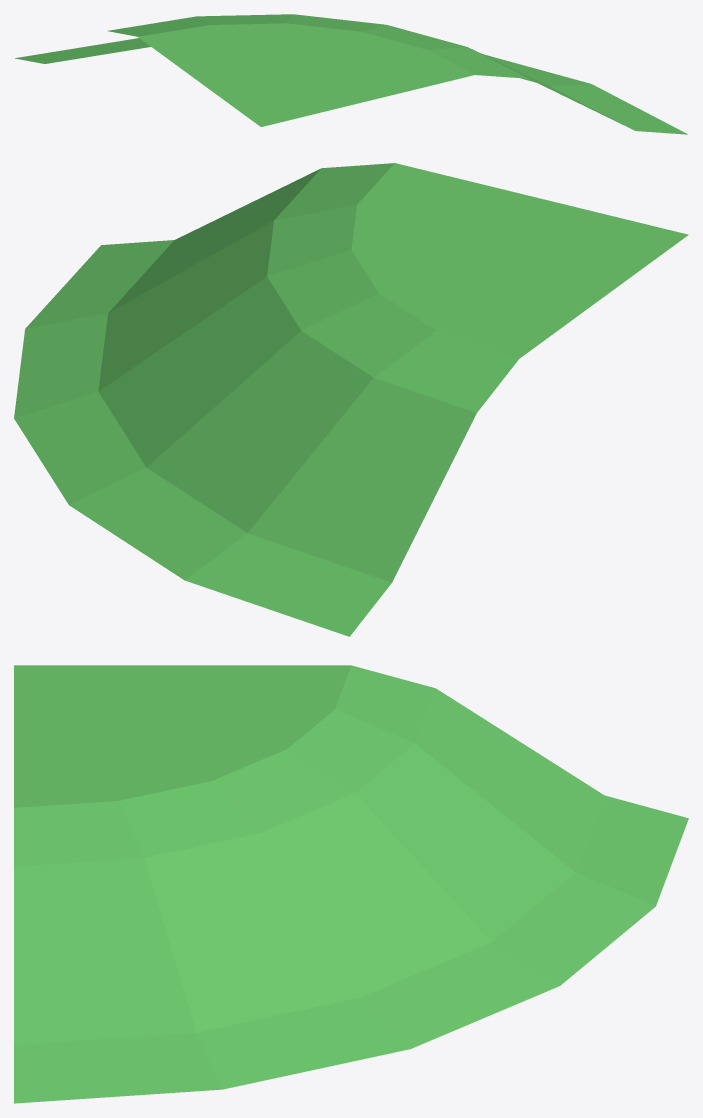
The model's file is Hilly_Terrain_Hill_Corner_Outer_4x4.glb.
The picture shows the model from 3 angles, top to bottom: view 1: azimuth 30°, elevation 25°; view 2: azimuth 150°, elevation 25°; view 3: azimuth 270°, elevation 25°; orthographic projection. The views are drawn at different scales.
Visible parts, largest first — view 1: Hilly_Terrain_Hill_Corner_Outer_4x4; view 2: Hilly_Terrain_Hill_Corner_Outer_4x4; view 3: Hilly_Terrain_Hill_Corner_Outer_4x4.
Boxes of the visible parts, x1,y1,x2,y2 form: Hilly_Terrain_Hill_Corner_Outer_4x4: (15,14,687,134); Hilly_Terrain_Hill_Corner_Outer_4x4: (14,163,688,636); Hilly_Terrain_Hill_Corner_Outer_4x4: (14,665,688,1103).
Size of the model in its own units: 4 by 1 by 4.
